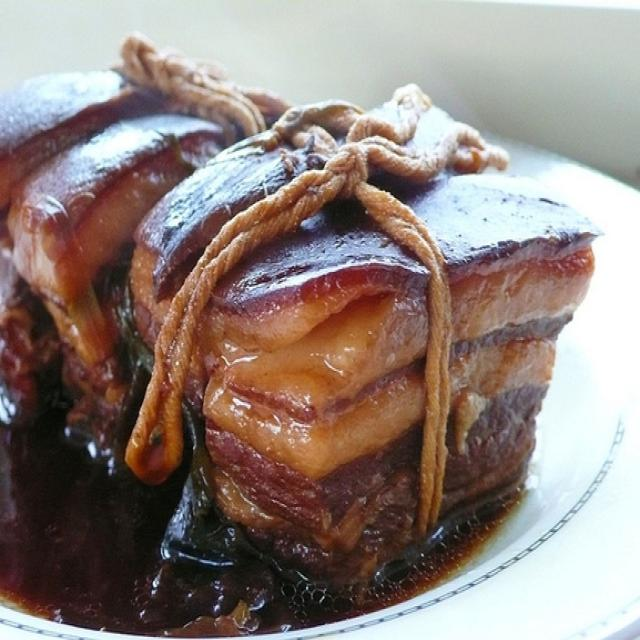牛肉菜式: (16, 24, 616, 591)
